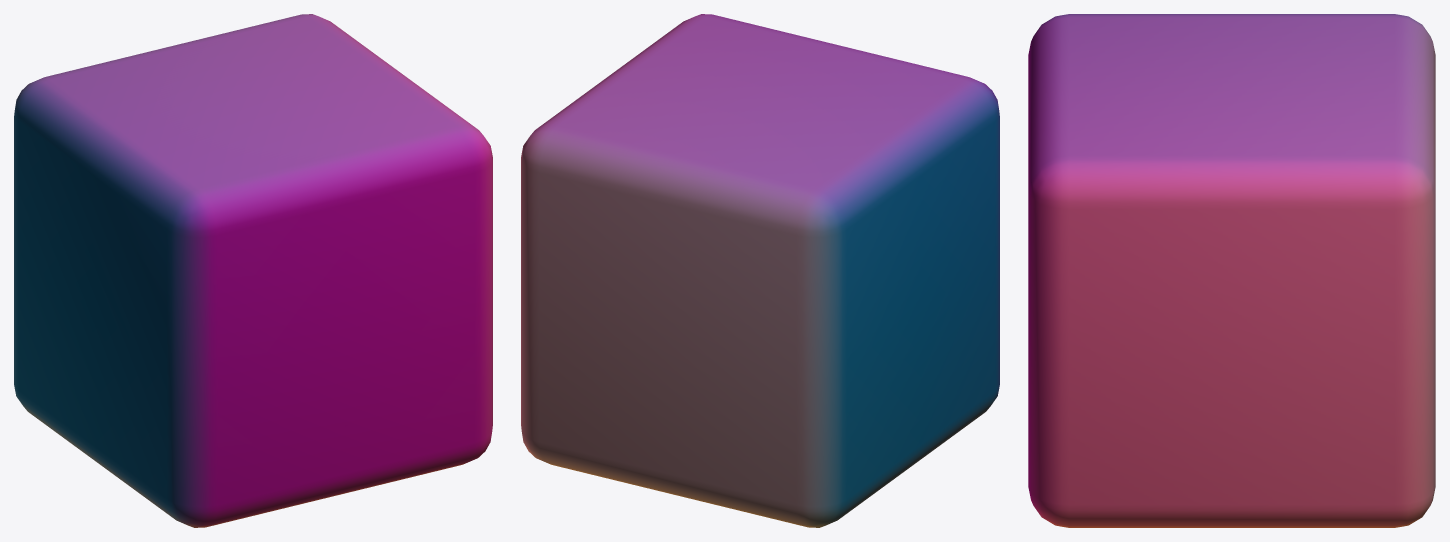
The model's file is Roundcube.fbx.
The picture shows the model from 3 angles, left to right: view 1: azimuth 30°, elevation 25°; view 2: azimuth 150°, elevation 25°; view 3: azimuth 270°, elevation 25°; orthographic projection. The views are drawn at different scales.
Visible parts, largest first — view 1: Roundcube; view 2: Roundcube; view 3: Roundcube.
Boxes of the visible parts, x1,y1,x2,y2 form: Roundcube: (14, 14, 492, 527); Roundcube: (521, 14, 999, 527); Roundcube: (1028, 14, 1435, 527).
Bounding box in the file's own units: 200 × 200 × 200.
